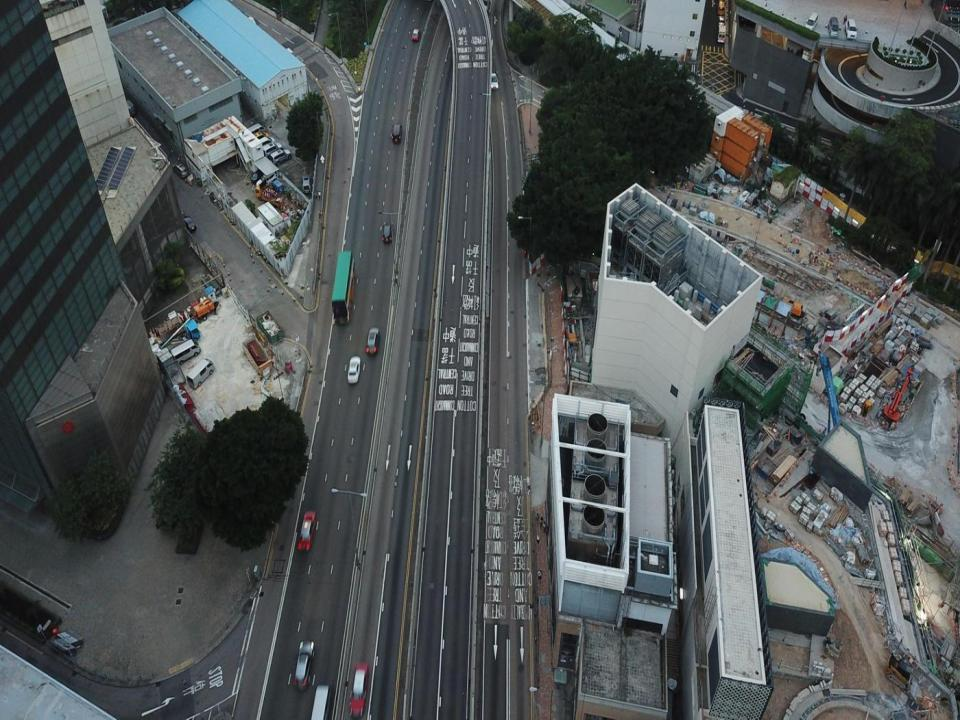bus: (330, 250, 356, 326)
car: (293, 641, 315, 689), (349, 662, 368, 716), (298, 511, 317, 550), (364, 326, 381, 355), (250, 169, 273, 185), (347, 356, 360, 384), (170, 159, 188, 177), (181, 211, 195, 232), (382, 219, 394, 243), (392, 122, 403, 144), (301, 173, 311, 194), (489, 70, 498, 88), (410, 27, 420, 42)
truck: (154, 317, 200, 353)
van: (186, 357, 214, 389), (171, 338, 198, 365), (237, 121, 261, 142), (269, 146, 291, 164), (259, 141, 281, 157), (827, 14, 842, 36), (804, 12, 820, 32), (250, 130, 269, 146), (255, 173, 276, 187), (845, 17, 857, 40), (253, 137, 274, 149)
